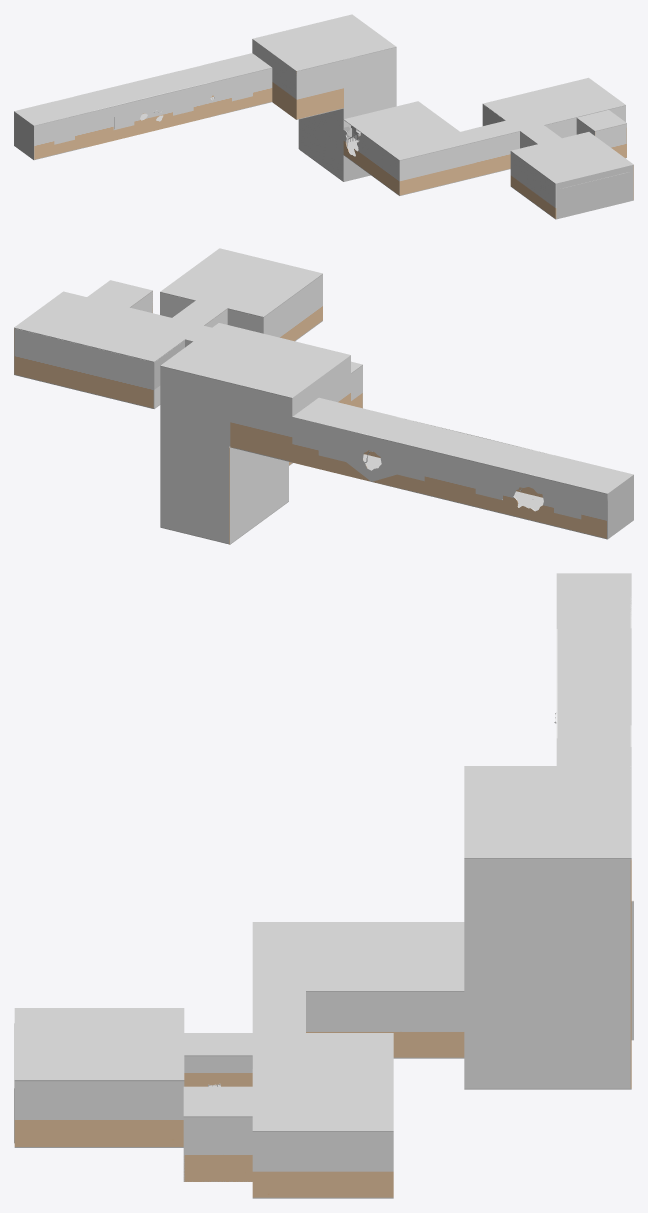
The model's file is aaaaaaa.fbx.
3 renders of one model, top to bottom at view 1: azimuth 30°, elevation 25°; view 2: azimuth 150°, elevation 25°; view 3: azimuth 270°, elevation 25°, orthographic. The views are drawn at different scales.
Parts seen in each view (by area): view 1: Cube.054, Cube.046, Cube.092, Cube.110, Cube.091, Cube.045, Cube.001, Cube.027, Cube.016, Cube.044, Cube.047, Cube.051 (+10 smaller); view 2: Cube.052, Cube.019, Cube.046, Cube.110, Cube.013, Cube.091, Cube.044, Cube.016, Cube.034, Cube.051, Cube.022, Cube.053 (+8 smaller); view 3: Cube.018, Cube.092, Cube.046, Cube.110, Cube.091, Cube.004, Cube.097, Cube.016, Cube.029, Cube.051, Cube.112, Cube.011 (+3 smaller).
Boxes of the visible parts, x1,y1,x2,y2 form: Cube.054: (34,68,272,159); Cube.046: (14,53,271,125); Cube.092: (343,101,474,160); Cube.110: (483,77,625,130); Cube.091: (511,132,633,183); Cube.045: (344,47,395,127); Cube.001: (556,165,633,218); Cube.027: (399,143,474,195); Cube.016: (299,14,396,59); Cube.044: (298,108,343,181); Cube.047: (296,60,343,119); Cube.051: (253,27,343,71); Cube.052: (292,417,607,538); Cube.019: (160,366,230,543); Cube.046: (293,397,633,494); Cube.110: (14,291,202,362); Cube.013: (14,328,153,408); Cube.091: (160,248,322,317); Cube.044: (229,446,288,544); Cube.016: (160,323,288,383); Cube.034: (230,383,292,461); Cube.051: (230,340,350,398); Cube.022: (263,274,322,341); Cube.053: (291,355,350,416); Cube.018: (464,859,630,1088); Cube.092: (252,922,464,991); Cube.046: (556,573,631,765); Cube.110: (252,1033,393,1131); Cube.091: (14,1008,184,1081); Cube.004: (14,1081,184,1146); Cube.097: (252,1132,393,1197); Cube.016: (464,809,631,858); Cube.029: (306,992,464,1057); Cube.051: (464,766,631,809); Cube.112: (183,1117,252,1181); Cube.011: (252,991,305,1033).
Bounding box in the file's own units: 7954 × 1819 × 4415.
